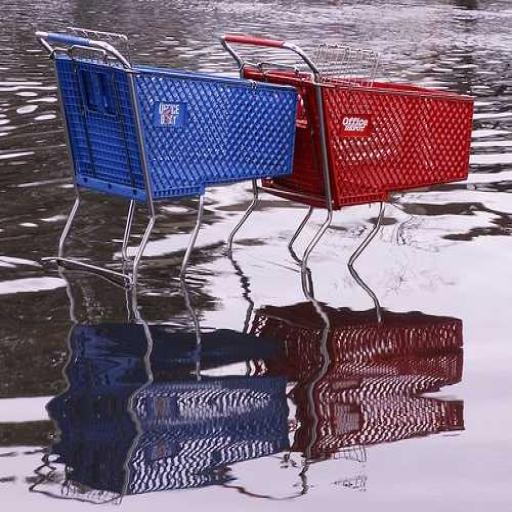shopping_cart: (36, 26, 296, 207), (220, 35, 474, 209)
